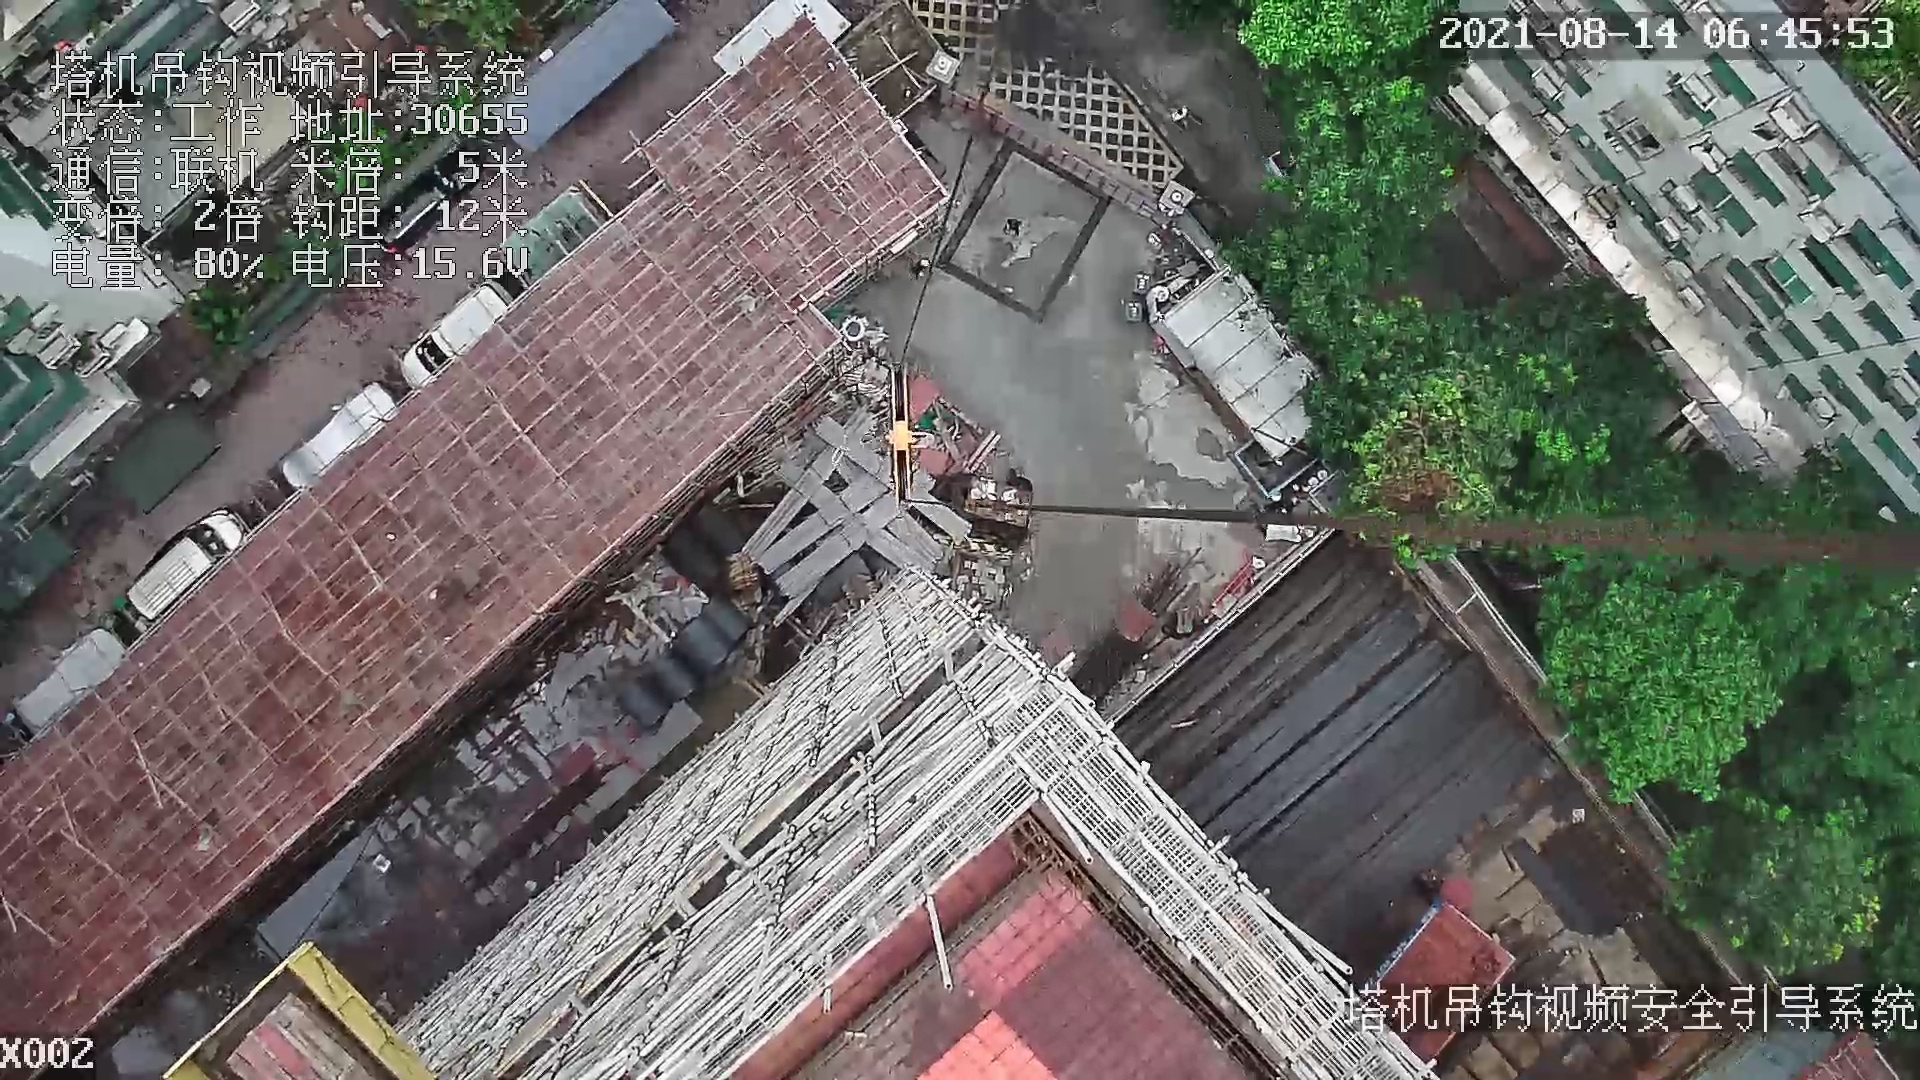helmet: (920, 260, 929, 266)
hook: (870, 356, 941, 504)
person: (1000, 215, 1025, 241), (910, 257, 936, 280)
